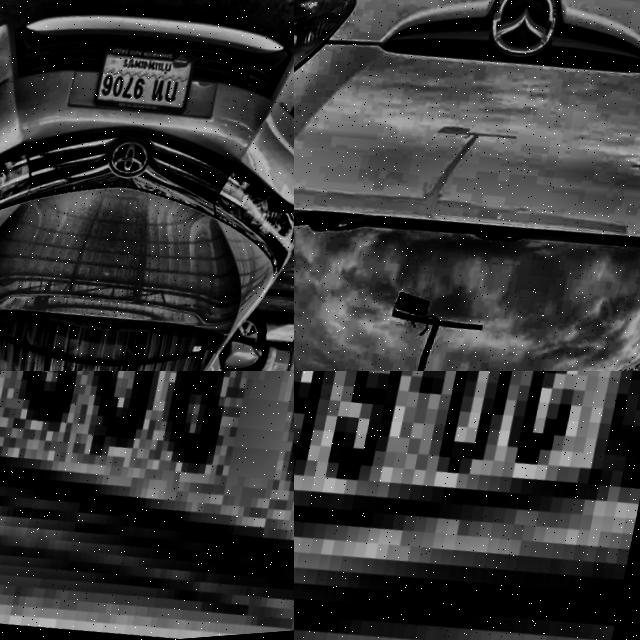license-plate: (294, 371, 640, 640), (0, 371, 294, 640), (91, 30, 206, 128)
